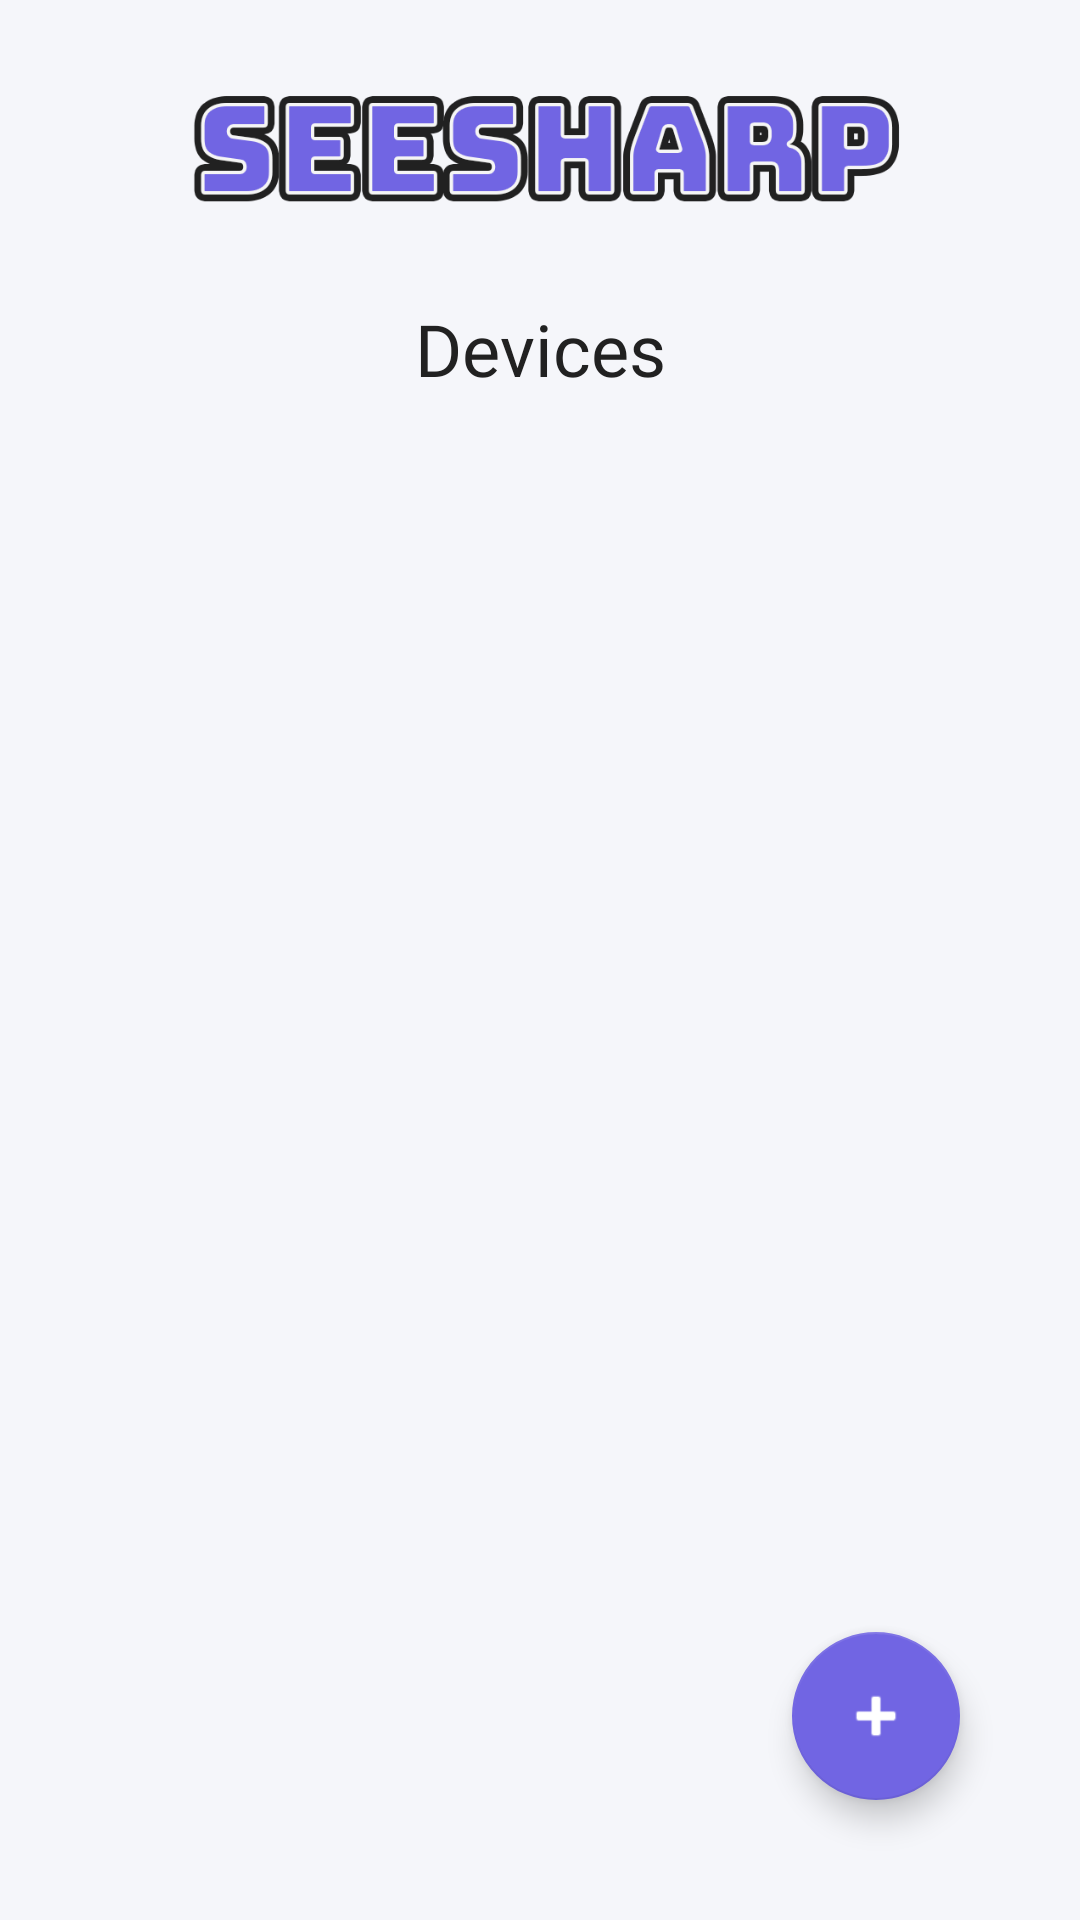

Point at icon controls on the screen. Image size 1080 × 1920, points as point (x, y).
add: point (876, 1716)
